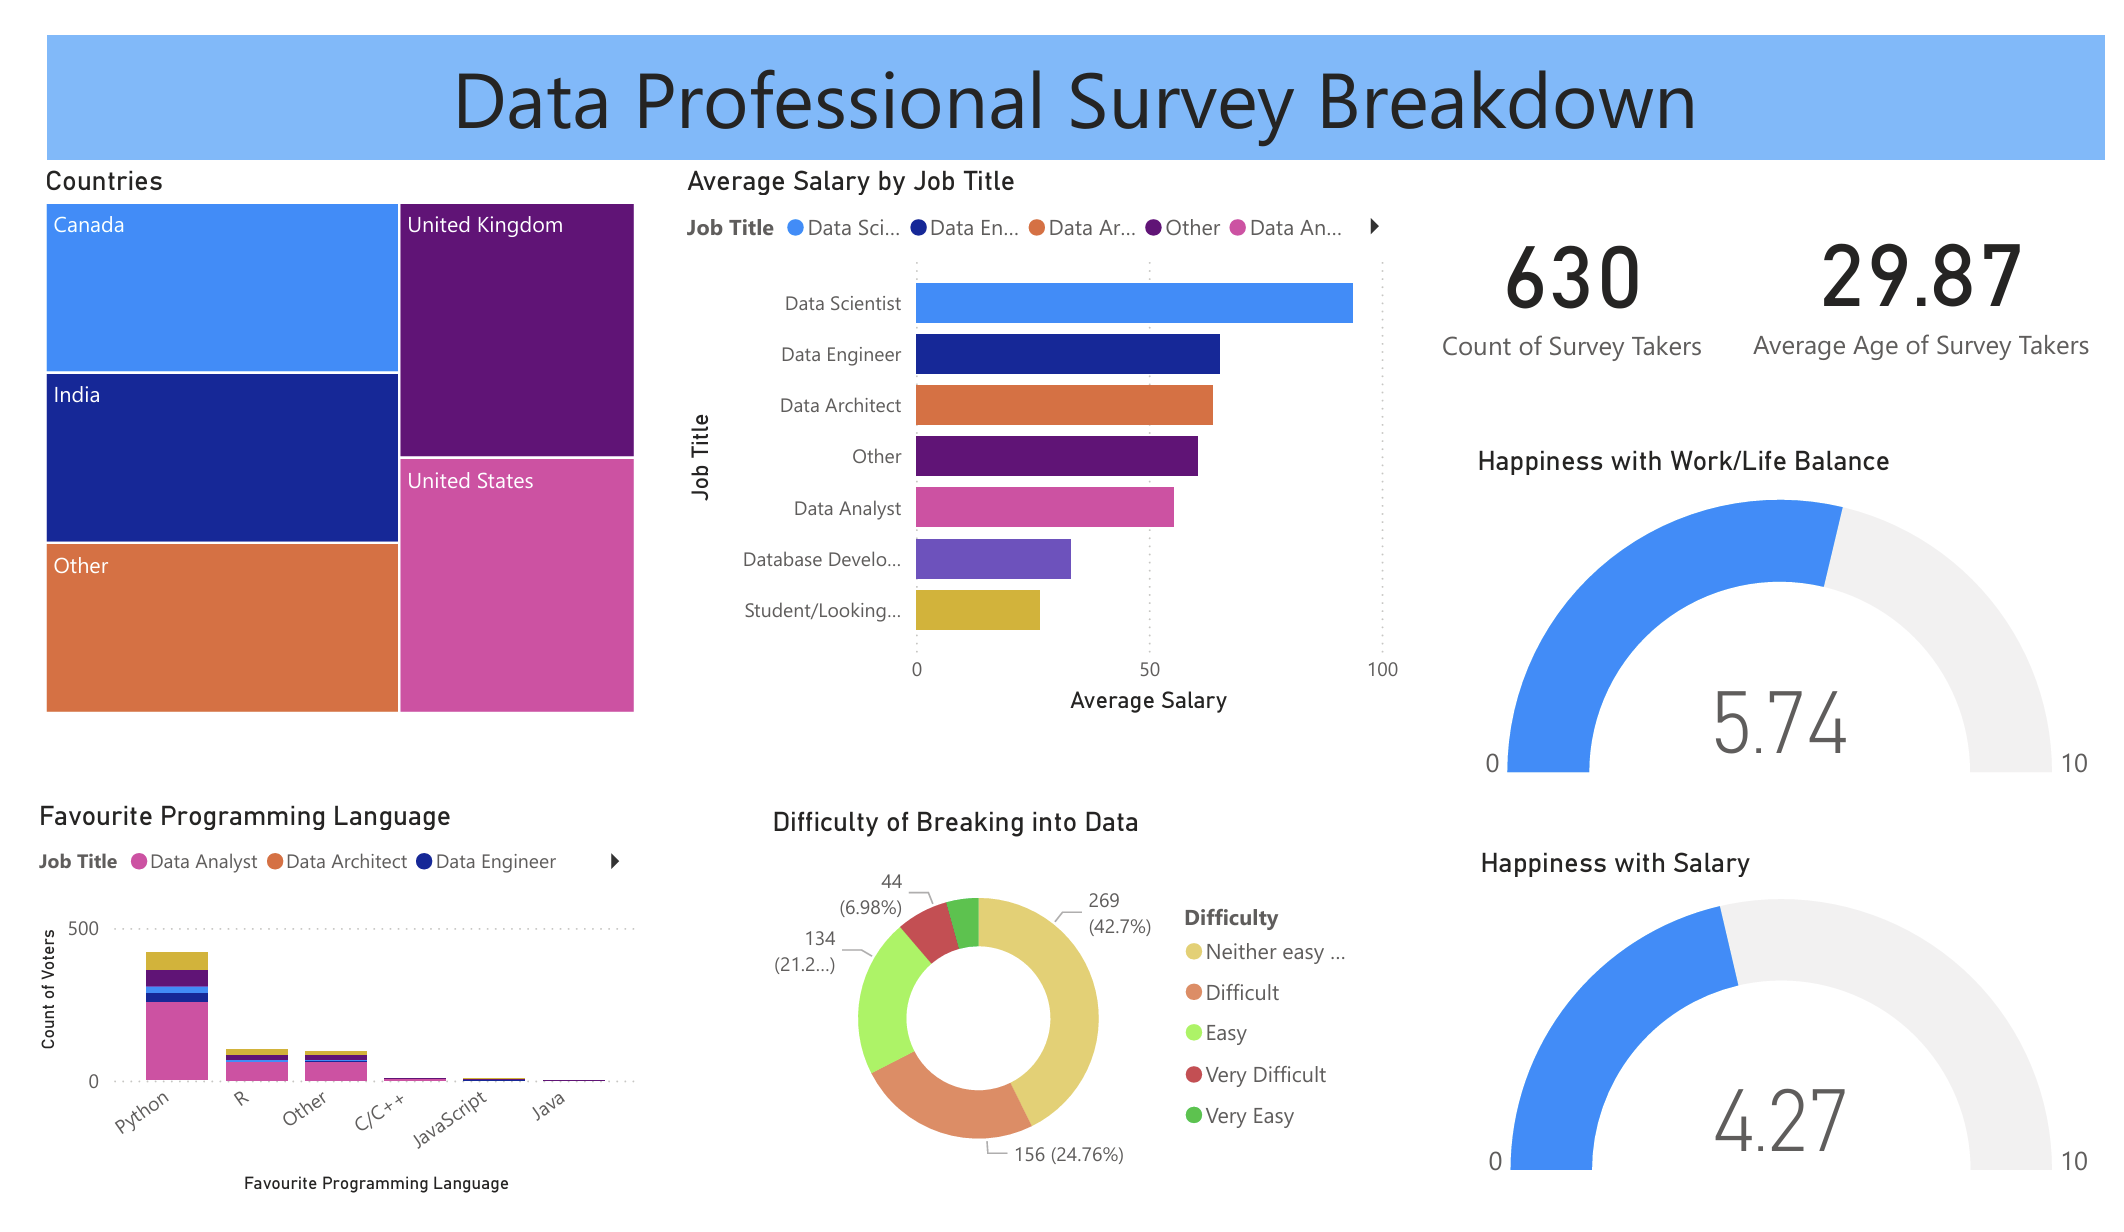

The dashboard page shown, as its layout file describes it:
{"tool":"powerbi","page":{"name":"Page 1","canvas":[1280,720],"ordinal":0},"visuals":[{"type":"textbox","box":[9.6,0,1269.9,76.8],"z":0},{"type":"card","fields":{"Values":["CountNonNull(Data Professional Survey.Unique ID)"]},"box":[849.3,79.2,205.2,146.3],"z":1000},{"type":"card","fields":{"Values":["Avg(Data Professional Survey.Q10 - Current Age)"]},"box":[1054.5,77.2,225.5,148.3],"z":2000},{"type":"barChart","title":"Average Salary by Job Title","fields":{"Category":["Data Professional Survey.Q1 - Which Title Best Fits your Current Role?.1"],"Y":["Avg(Data Professional Survey.Average Salary)"],"Series":["Data Professional Survey.Q1 - Which Title Best Fits your Current Role?.1"]},"box":[400.3,79.2,449,343.4],"z":3000},{"type":"columnChart","title":"Favourite Programming Language","fields":{"Category":["Data Professional Survey.Q5 - Favorite Programming Language.1"],"Y":["CountNonNull(Data Professional Survey.Unique ID)"],"Series":["Data Professional Survey.Q1 - Which Title Best Fits your Current Role?.1"]},"box":[0,471.4,379.9,247.9],"z":4000},{"type":"treemap","title":"Countries","fields":{"Group":["Data Professional Survey.Q11 - Which Country do you live in?.1"],"Values":["Count(Data Professional Survey.Q11 - Which Country do you live in?.1)"]},"box":[4.1,79.2,373.8,343.4],"z":5000},{"type":"gauge","title":"Happiness with Work/Life Balance","fields":{"Y":["Avg(Data Professional Survey.Q6 - How Happy are you in your Current Position with the following? (Work/Life Balance))"],"MinValue":["Min(Data Professional Survey.Q6 - How Happy are you in your Current Position with the following? (Work/Life Balance))1"],"MaxValue":["Max(Data Professional Survey.Q6 - How Happy are you in your Current Position with the following? (Work/Life Balance))2"]},"box":[887.9,251.9,392.1,223.5],"z":6000},{"type":"gauge","title":"Happiness with Salary","fields":{"Y":["Avg(Data Professional Survey.Q6 - How Happy are you in your Current Position with the following? (Salary))"],"MinValue":["Min(Data Professional Survey.Q6 - How Happy are you in your Current Position with the following? (Salary))"],"MaxValue":["Max(Data Professional Survey.Q6 - How Happy are you in your Current Position with the following? (Salary))"]},"box":[889.9,499.8,390.1,219.4],"z":7000},{"type":"donutChart","title":"Difficulty of Breaking into Data","fields":{"Category":["Data Professional Survey.Q7 - How difficult was it for you to break into Data?"],"Y":["CountNonNull(Data Professional Survey.Q7 - How difficult was it for you to break into Data?)"]},"box":[453.1,475.4,373.8,243.8],"z":8000}]}

Visuals, with their boxes on the page's 1280x720 design canvas (x1, y1, x2, y2). These are canvas units, not pixel positions in the 2124x1232 screenshot, which may show the page scaled, cropped or inside an application window:
textbox: locate(10, 0, 1280, 77)
card - CountNonNull(Data Professional Survey.Unique ID): locate(849, 79, 1054, 226)
card - Avg(Data Professional Survey.Q10 - Current Age): locate(1054, 77, 1280, 226)
"Average Salary by Job Title" barChart: locate(400, 79, 849, 423)
"Favourite Programming Language" columnChart: locate(0, 471, 380, 719)
"Countries" treemap: locate(4, 79, 378, 423)
"Happiness with Work/Life Balance" gauge: locate(888, 252, 1280, 475)
"Happiness with Salary" gauge: locate(890, 500, 1280, 719)
"Difficulty of Breaking into Data" donutChart: locate(453, 475, 827, 719)
